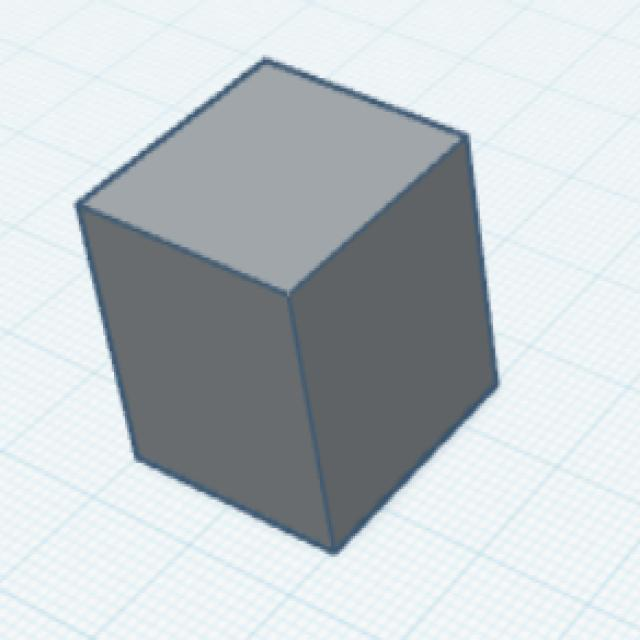cube: (68, 52, 504, 560)
